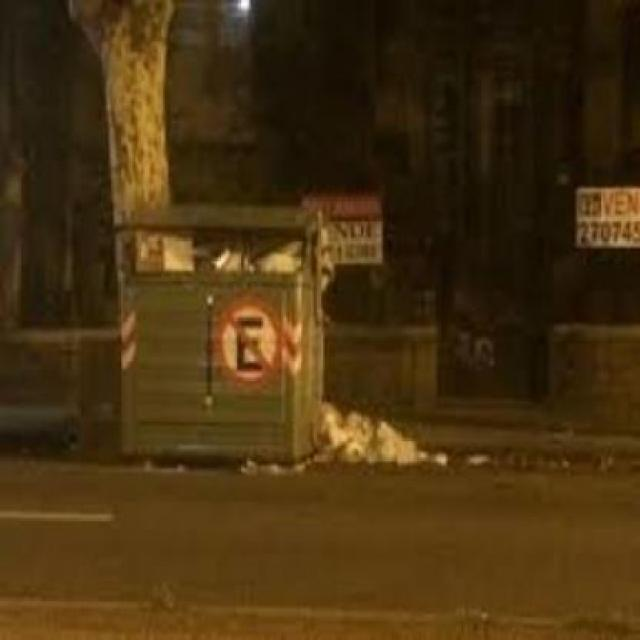garbage: (131, 222, 335, 316), (309, 395, 496, 480)
